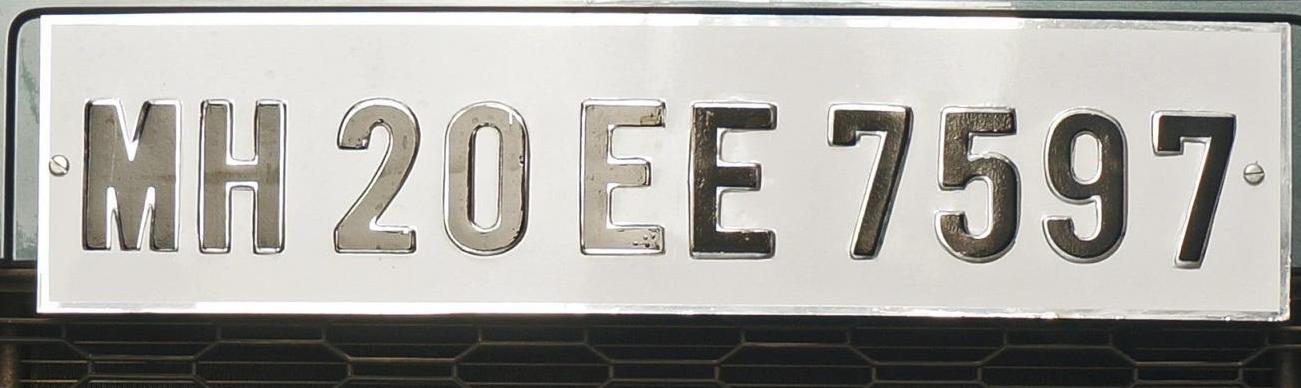0: (439, 99, 534, 258)
2: (328, 96, 424, 255)
5: (933, 101, 1027, 265)
7: (1146, 107, 1239, 274), (826, 101, 915, 262)
9: (1044, 106, 1131, 265)
E: (577, 93, 671, 259), (686, 100, 781, 260)
H: (196, 98, 286, 254)
M: (79, 98, 183, 254)
